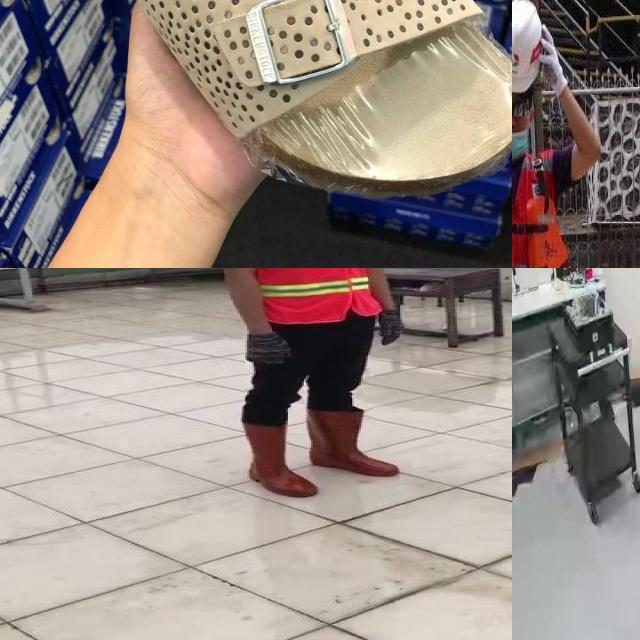Sandals: (2, 0, 512, 201)
boots: (306, 406, 414, 479), (234, 414, 320, 500)
head_helmet: (512, 0, 544, 91)
person: (206, 268, 407, 499), (512, 49, 613, 268)
vest: (216, 268, 382, 325), (512, 149, 571, 268)
